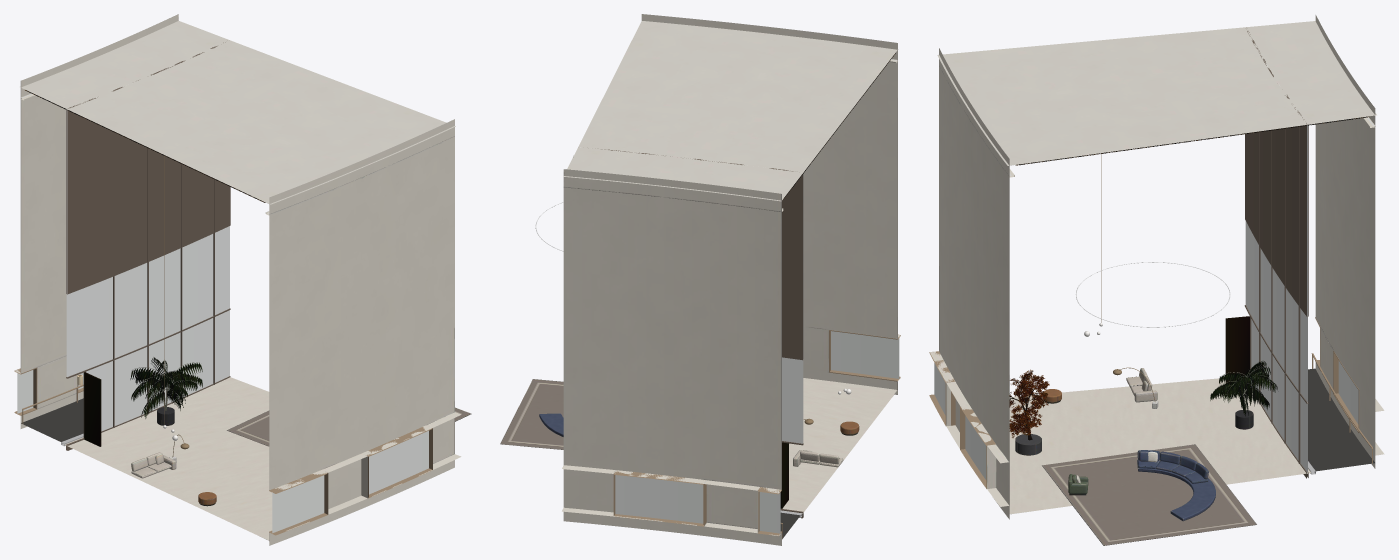
3 renders of one model, left to right at view 1: azimuth 30°, elevation 25°; view 2: azimuth 150°, elevation 25°; view 3: azimuth 270°, elevation 25°, orthographic. The views are drawn at different scales.
Parts seen in each view (by area): view 1: c1620, c1620 leaves; view 2: c1620, c1620 leaves; view 3: c1620, c1620 leaves.
Boxes of the visible parts, x1,y1,x2,y2 form: c1620: [14, 14, 471, 545]; c1620 leaves: [25, 90, 265, 446]; c1620: [500, 14, 900, 545]; c1620 leaves: [780, 53, 895, 508]; c1620: [929, 15, 1384, 545]; c1620 leaves: [1009, 116, 1369, 440].
Size of the model in its own units: 21.79 by 20.7 by 23.66.
Materials: 11 (1 with a texture image).
